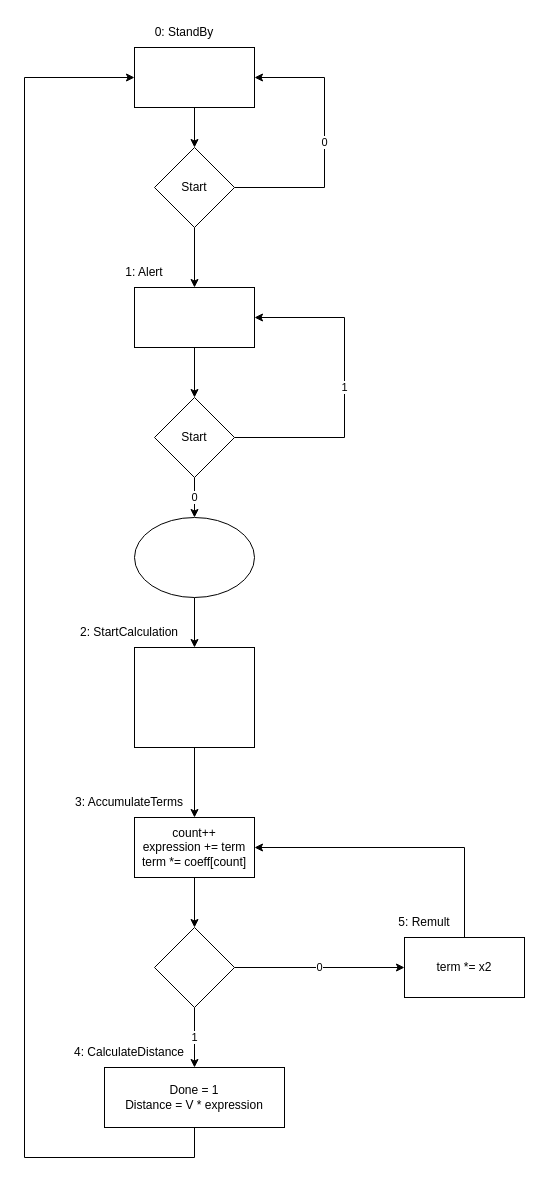
The diagram is 542 pixels wide and 1183 high, and some of its shapes have lost their labels. The shapes that lost their labels are listed below. From the top down, each one's centre as x and y in pixels, then its label:
At (194,557): "Done = 0".
At (194,697): "x2 = x * x V = VSig expression = 0 term = 1 count = 0".
At (194,967): "count == 8".
